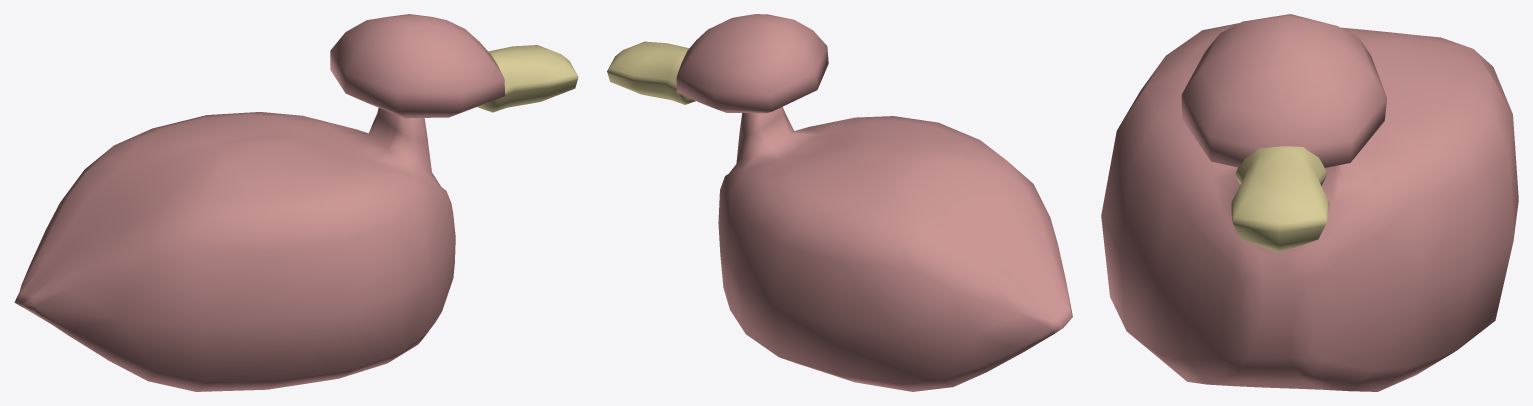
Rendered from red_mom_animated.fbx.
3 views of the same model, side by side, from view 1: azimuth 30°, elevation 25°; view 2: azimuth 150°, elevation 25°; view 3: azimuth 270°, elevation 25° (orthographic). The views are drawn at different scales.
Visible parts, largest first — view 1: polySurface10; view 2: polySurface10; view 3: polySurface10.
Boxes of the visible parts, bbox=[...] form: polySurface10: bbox=[14, 14, 578, 391]; polySurface10: bbox=[607, 14, 1072, 391]; polySurface10: bbox=[1101, 14, 1518, 391].
Bounding box in the file's own units: 6.86 × 3.79 × 3.71.
